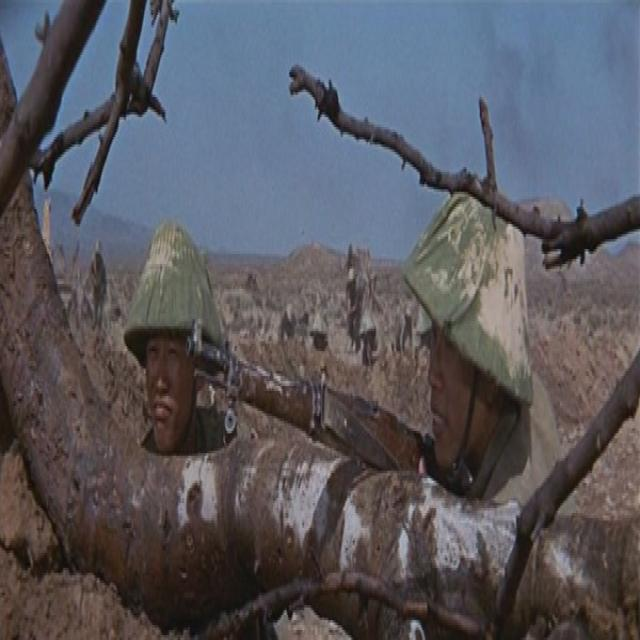rifle: (185, 318, 424, 484)
